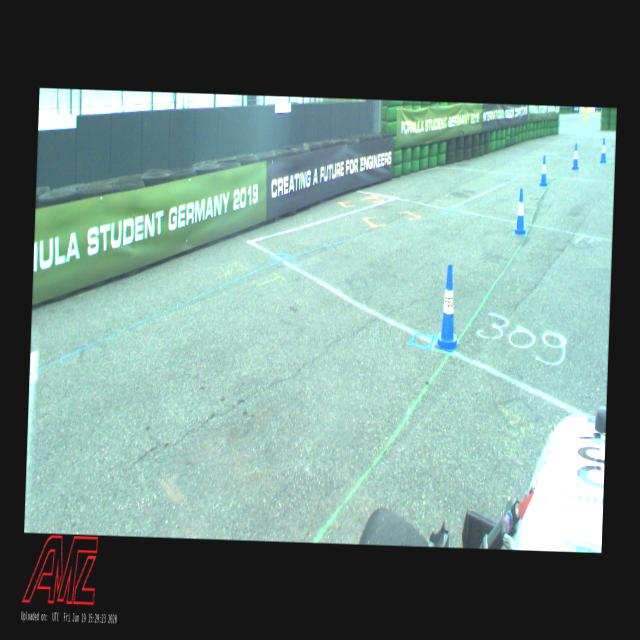blue_cone: (434, 264, 461, 352), (514, 188, 528, 235), (598, 138, 608, 164), (539, 155, 547, 186), (572, 143, 580, 170)
